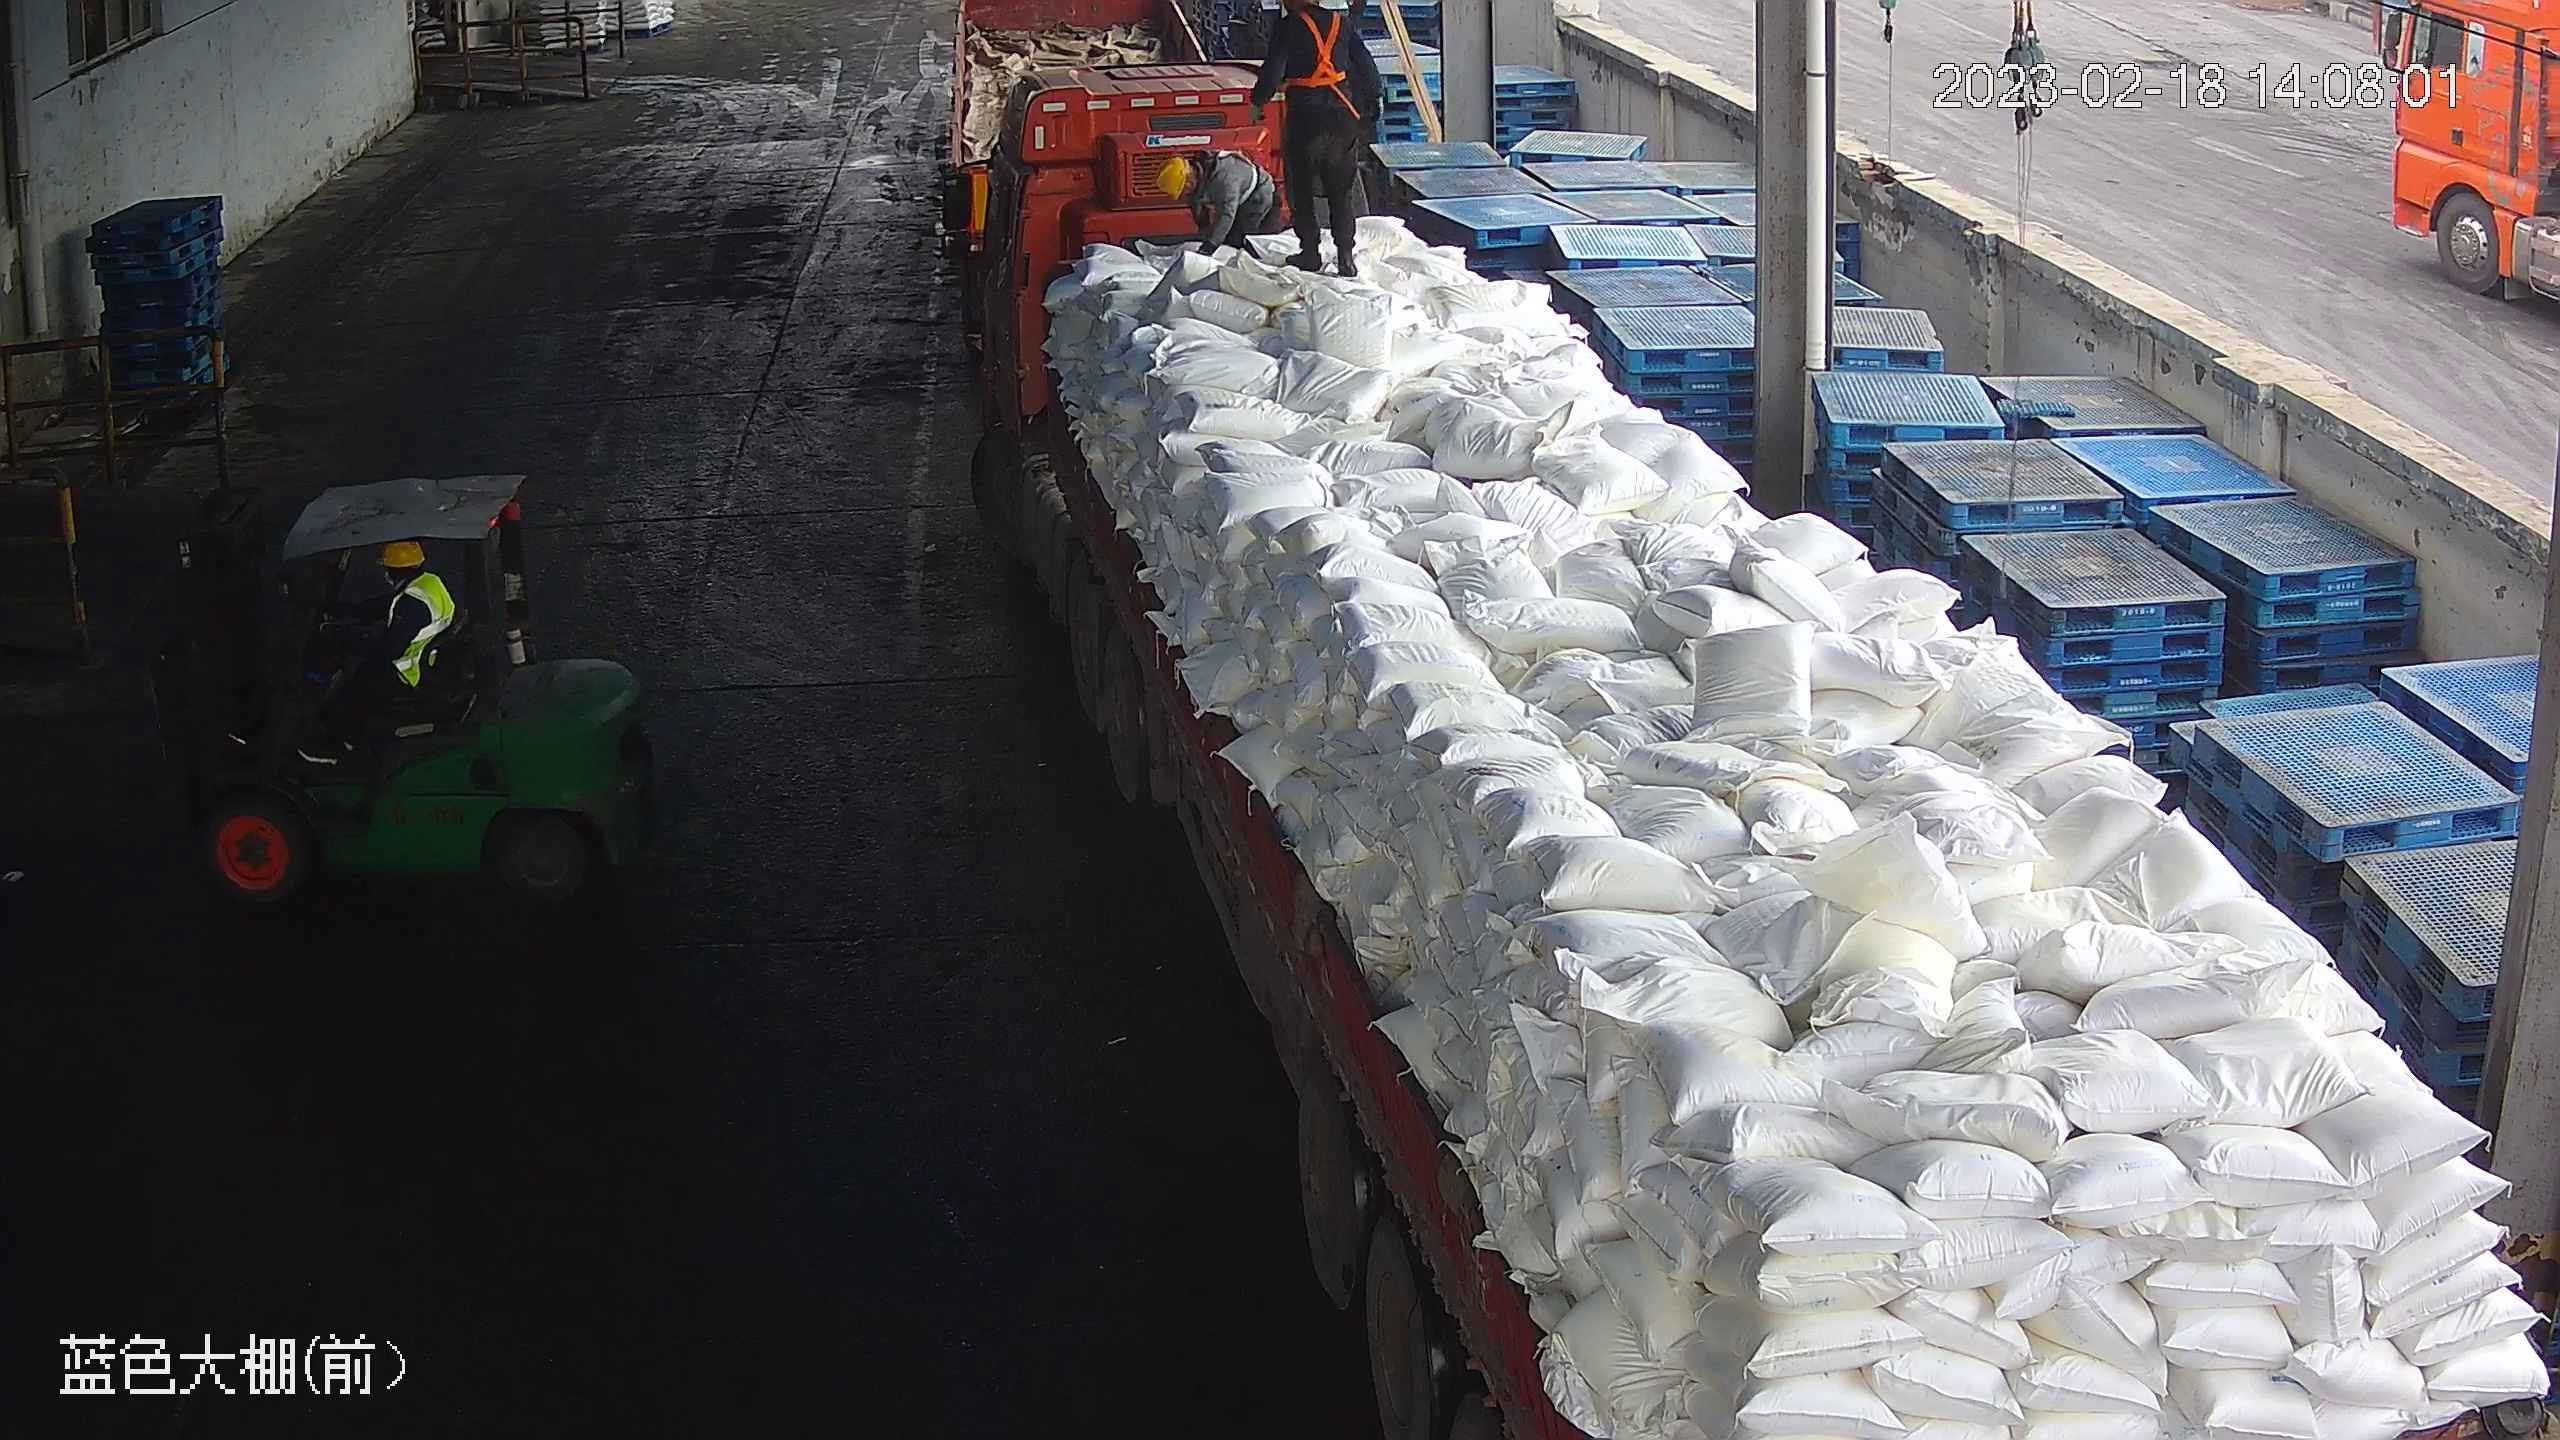belt: (1279, 8, 1351, 94), (1220, 140, 1266, 200)
head: (1156, 149, 1235, 213)
helmet: (1159, 156, 1188, 203), (379, 535, 420, 567)
people: (1251, 5, 1383, 289), (297, 540, 458, 771), (1154, 145, 1281, 259)
truck: (935, 54, 2560, 1440)
